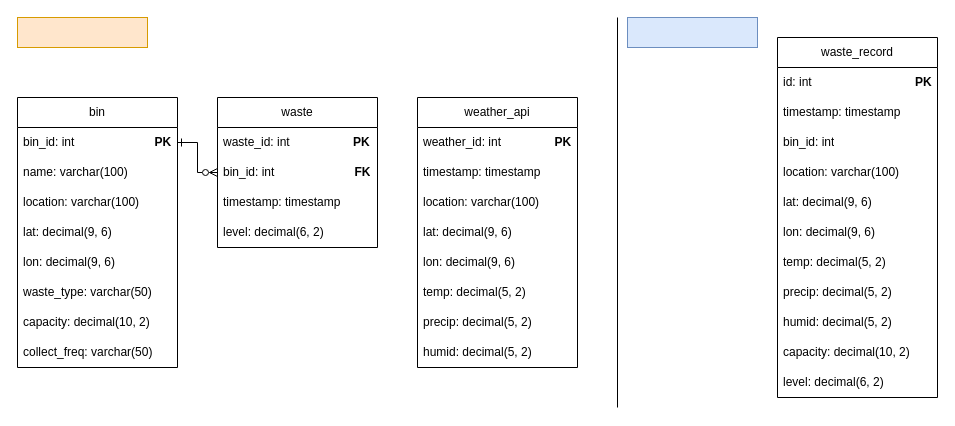
Image size: 955x426. Some labels were removed from this diagram. Here are the shapes that lost their labels. From the top down, the centre of each, then its label:
pixel 82 32: Data Collection
pixel 692 32: Data Integration
